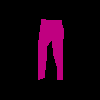pantaloni: (37, 18, 64, 80)
